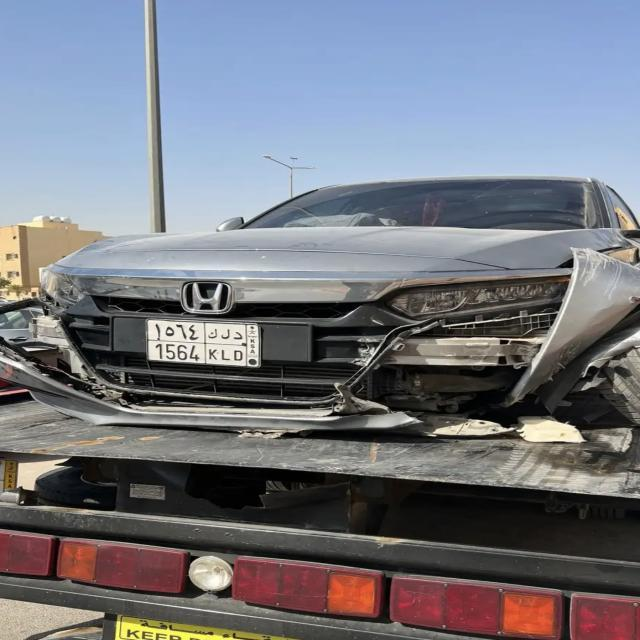license_plate: (145, 320, 260, 370)
